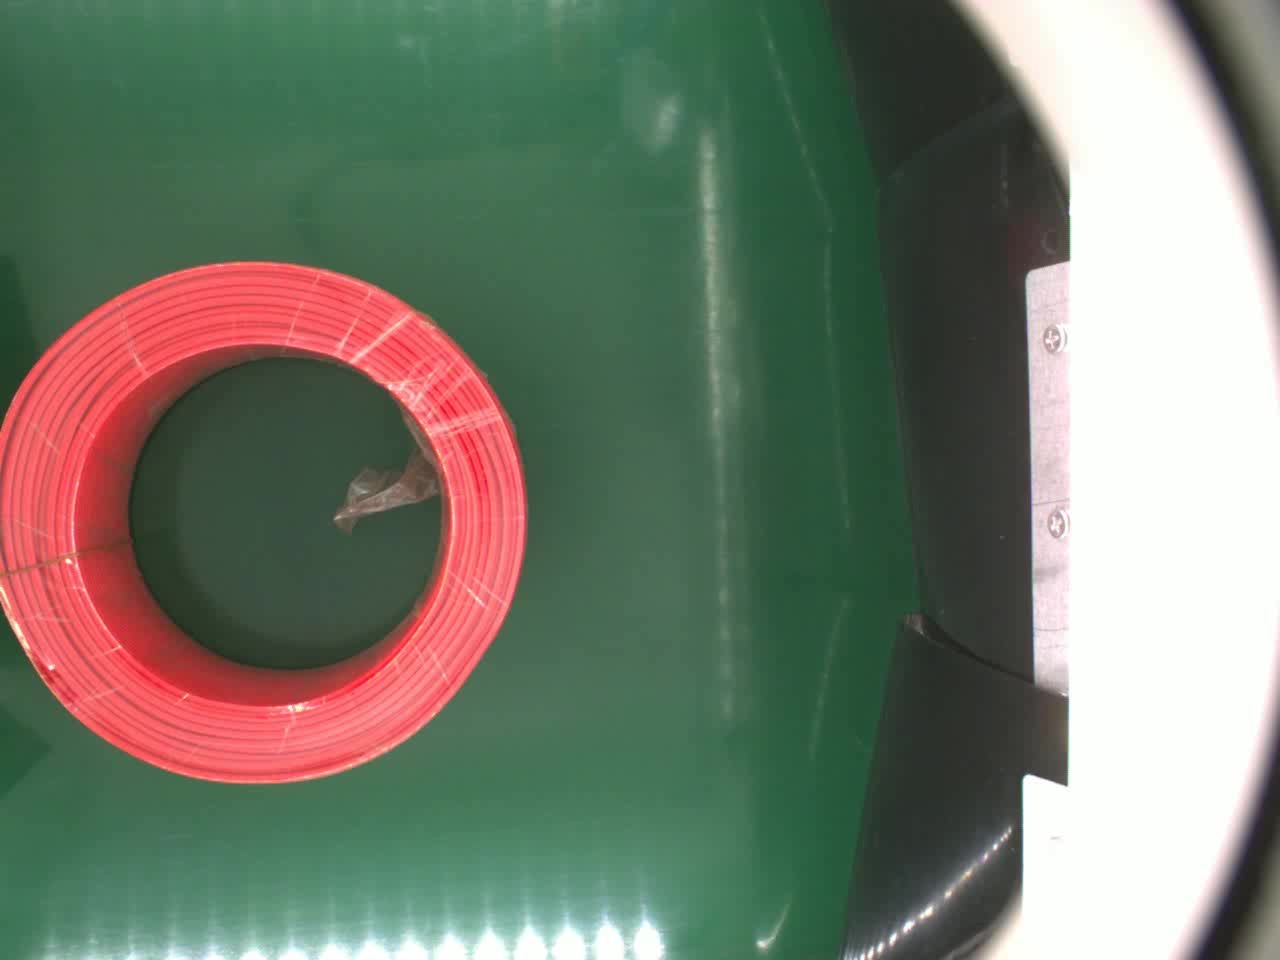red: (0, 263, 527, 785)
